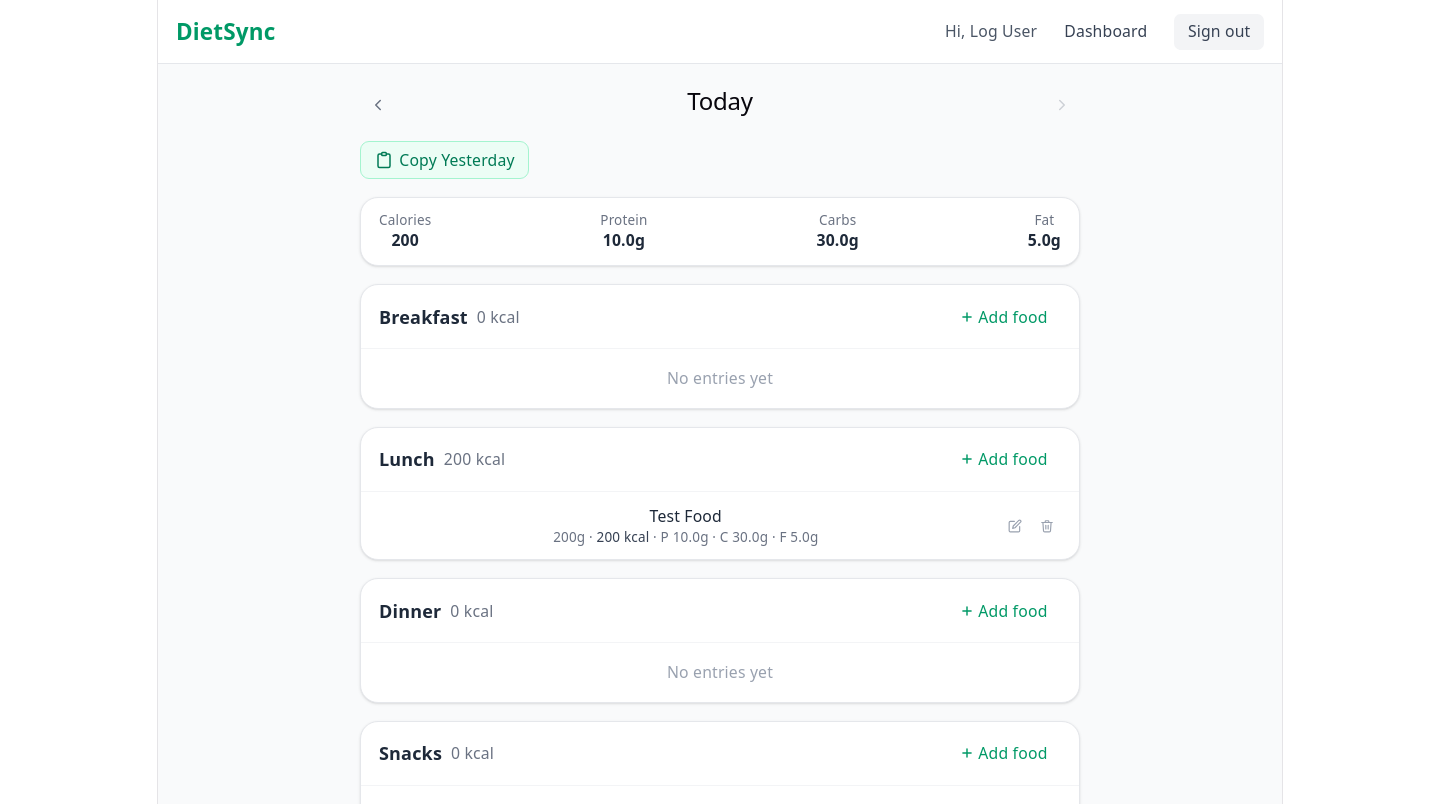
Scenario: Editing a food entry › editing serving size recalculates and displays updated calories
Expected: the text "200g · 200 kcal · P 10.0g · C 30.0g · F 5.0g" is shown, left=553, top=528, right=818, bottom=546
// Click edit on the entry
Click the button named "edit test food".
click(1015, 526)  # box left=1002, top=512, right=1029, bottom=539
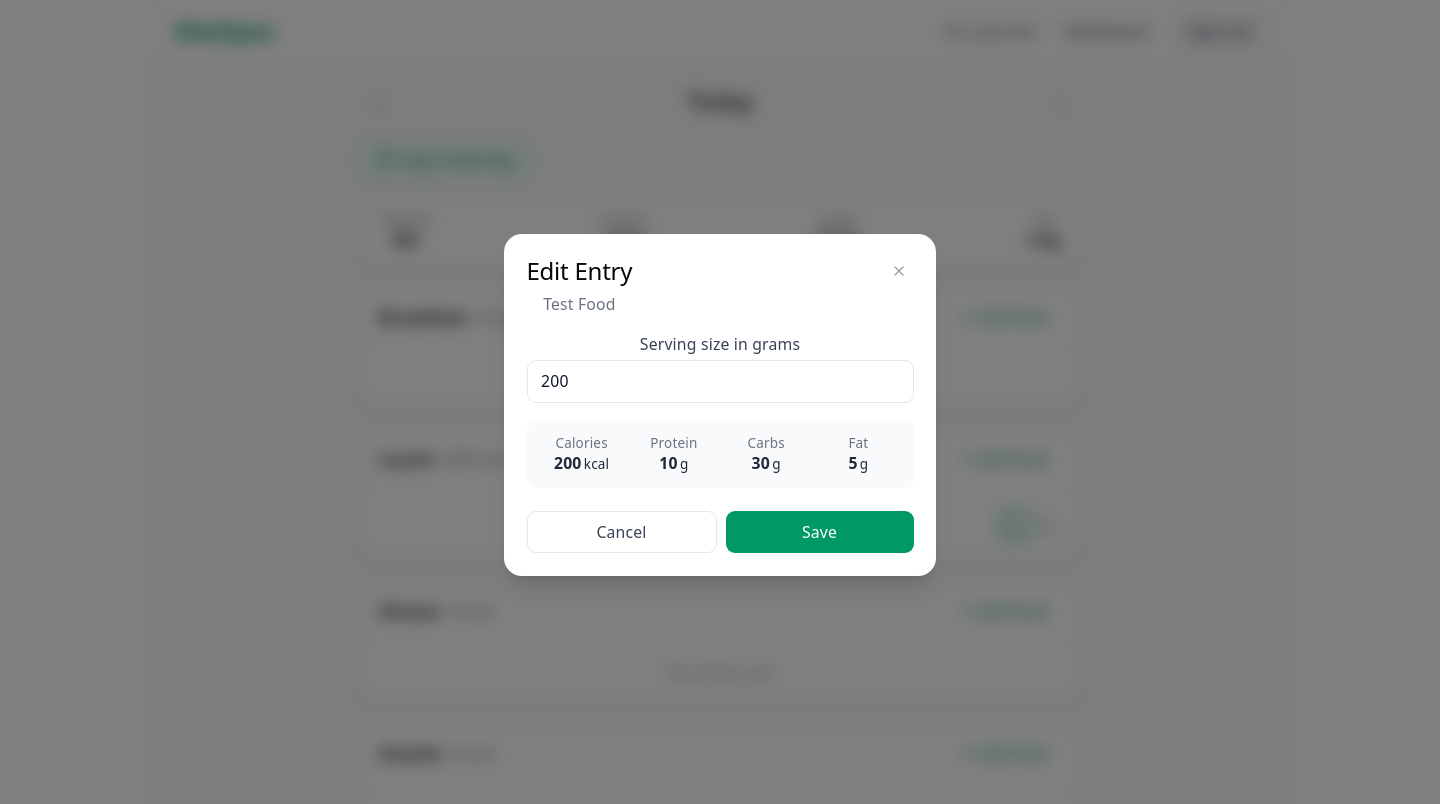
// Inline edit input should appear — update grams to 100
Clear the number field labelled "Serving size in grams" at x=720, y=382, box left=526, top=360, right=914, bottom=403
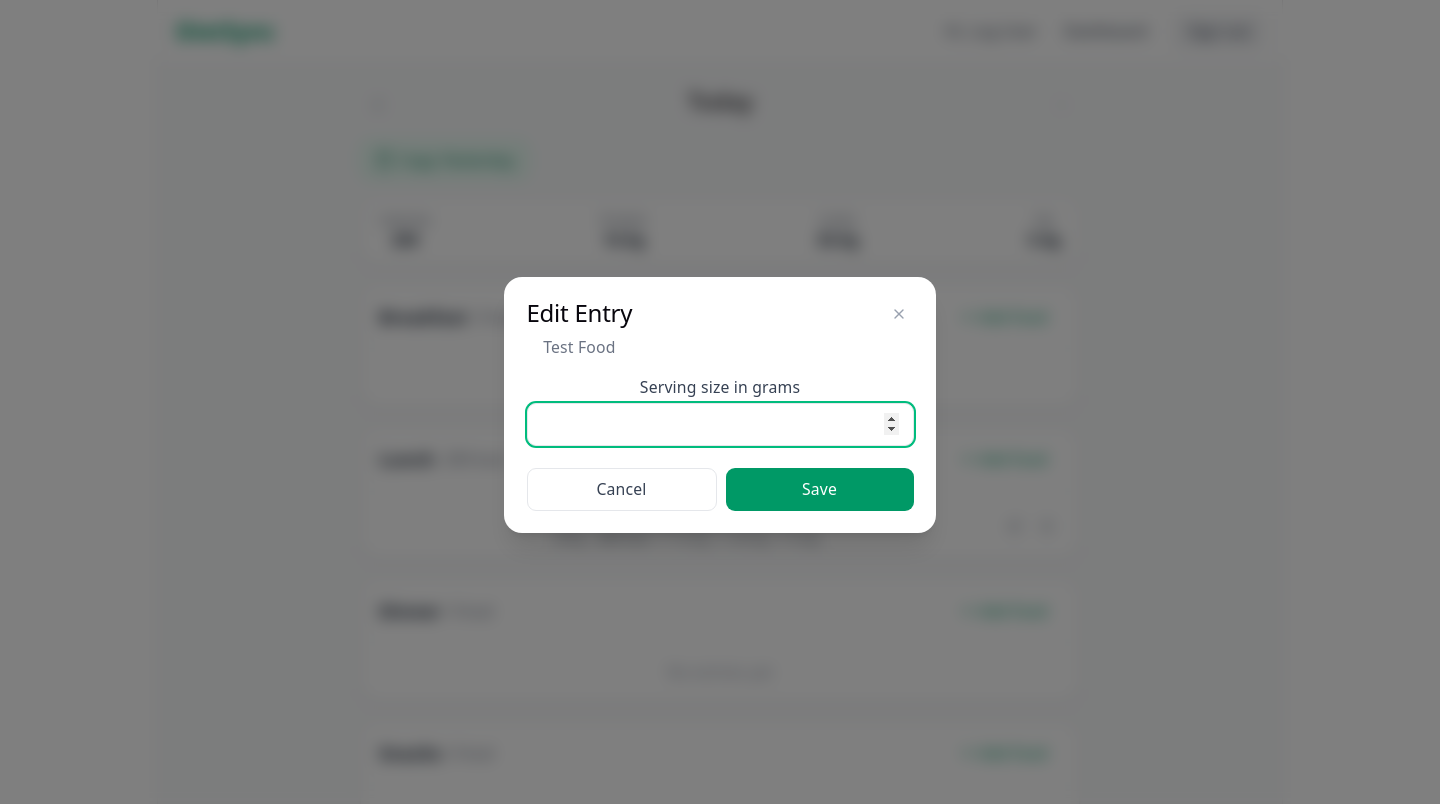
Type "100" into the number field labelled "Serving size in grams".
click(720, 424); type("100")  # box left=526, top=403, right=914, bottom=446
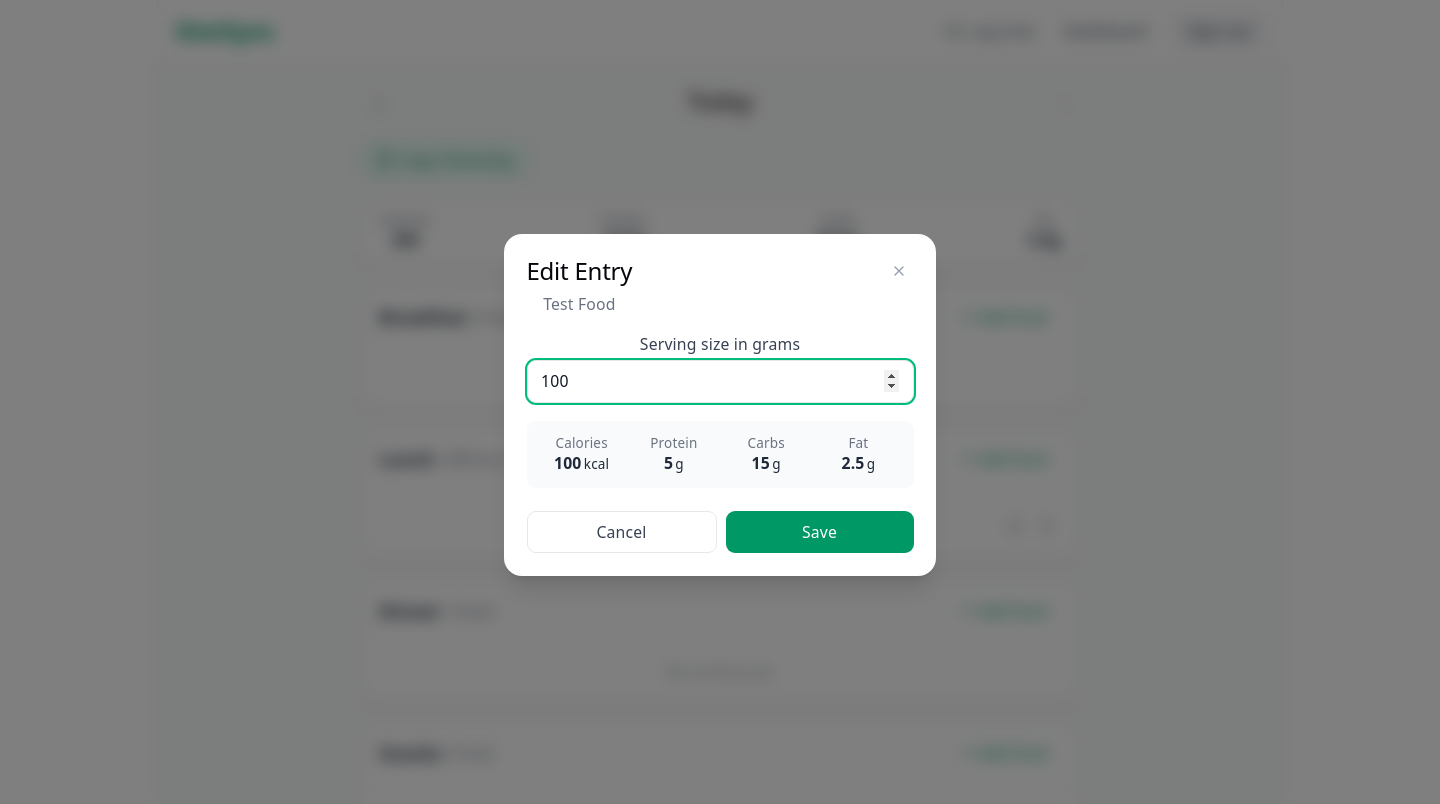
Click the button "Save".
click(820, 532)  # box left=726, top=511, right=914, bottom=553
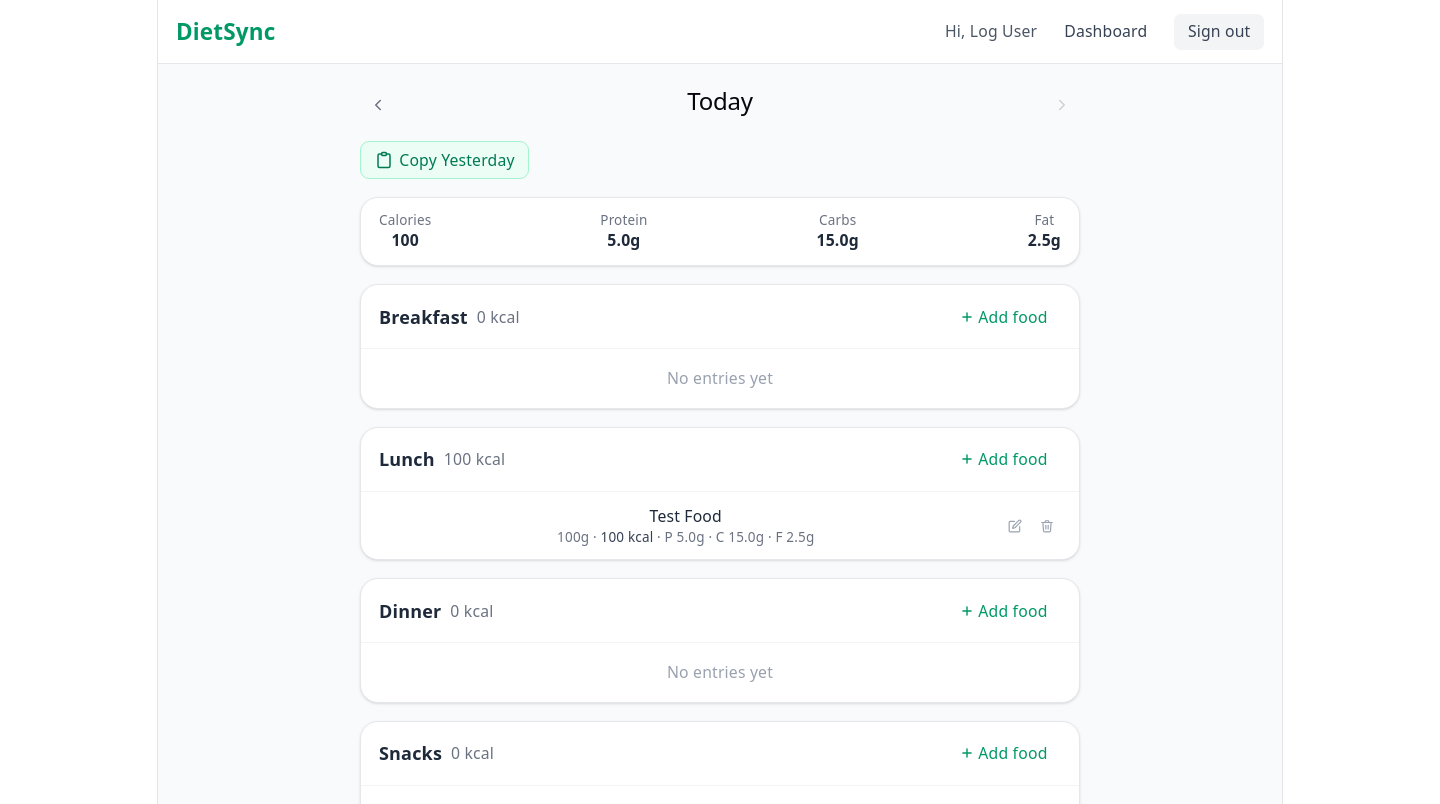
Now the text "100g · 100 kcal · P 5.0g · C 15.0g · F 2.5g" is shown, box left=557, top=528, right=814, bottom=546
